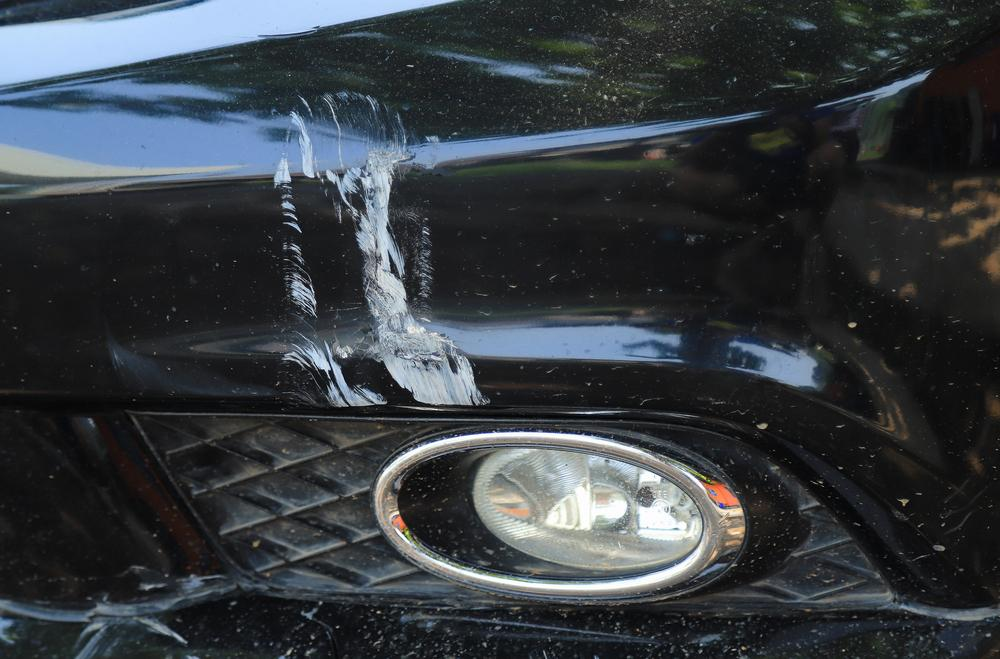scratch: (270, 80, 493, 414)
